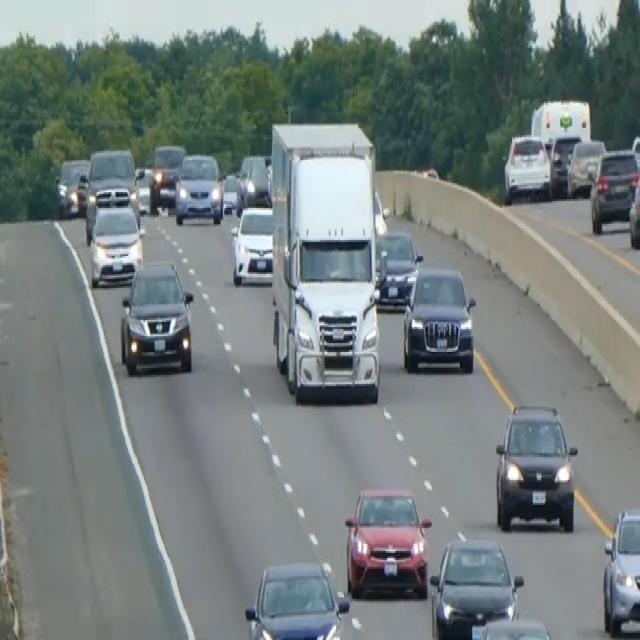car: (494, 400, 578, 533), (343, 484, 432, 599), (429, 535, 523, 638), (119, 258, 194, 375), (243, 558, 349, 638), (401, 263, 476, 373), (601, 505, 639, 636), (89, 203, 143, 286), (588, 146, 639, 233), (374, 228, 423, 310), (174, 149, 224, 226), (229, 203, 274, 286), (85, 146, 139, 212), (502, 132, 552, 202), (148, 142, 185, 212), (566, 137, 606, 197), (54, 156, 90, 218), (471, 614, 561, 638), (549, 132, 583, 194), (235, 153, 271, 211), (134, 166, 156, 213), (628, 171, 639, 249), (221, 171, 239, 213)
lorry: (268, 119, 382, 404)
